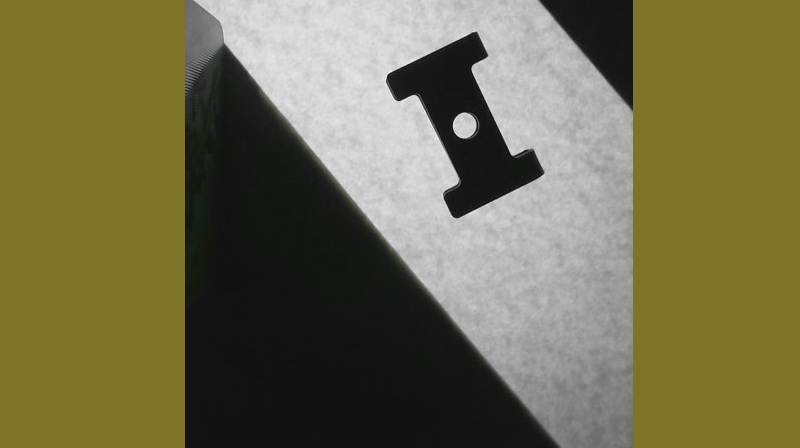O002: (382, 28, 545, 223)
